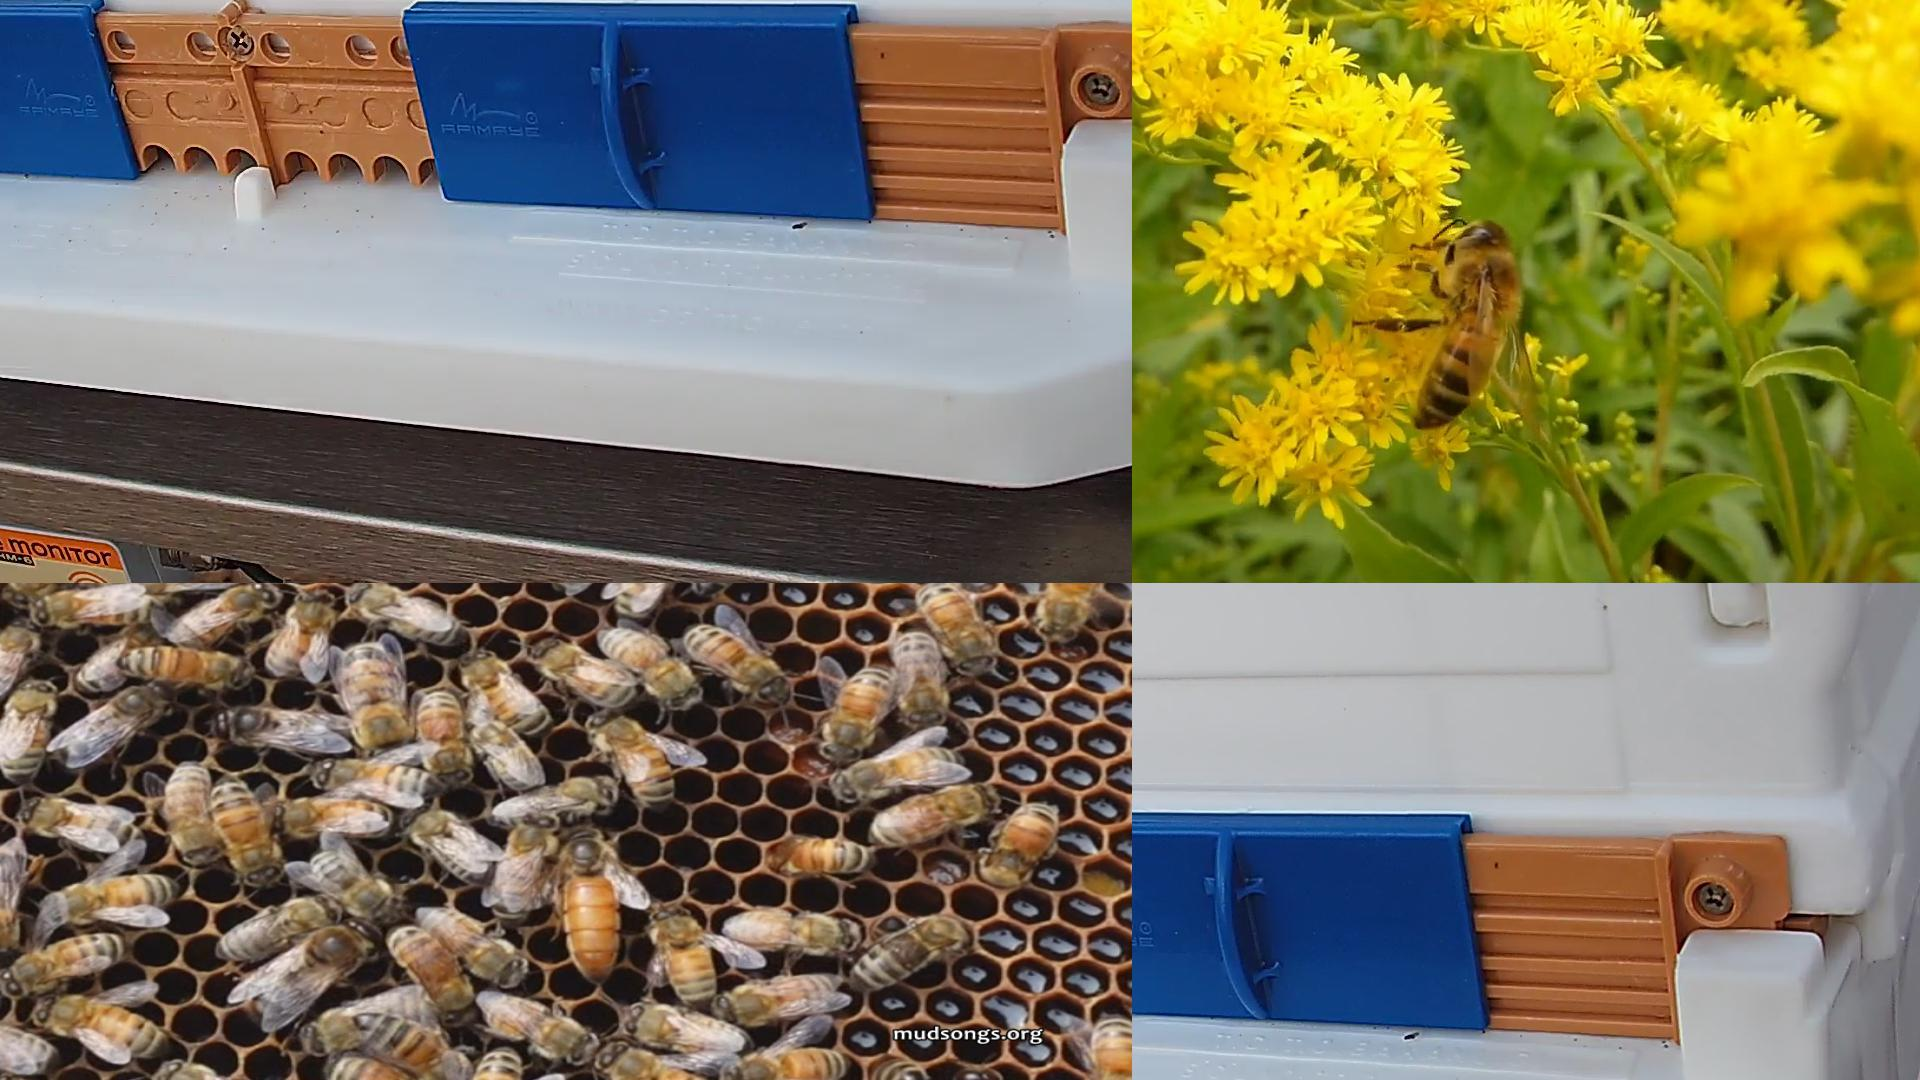bee: (1415, 222, 1515, 426), (851, 916, 969, 998), (36, 994, 174, 1058), (591, 712, 678, 810), (0, 934, 129, 997), (869, 783, 1001, 844), (916, 583, 1000, 676), (421, 909, 524, 984), (491, 816, 562, 923), (599, 629, 696, 707), (389, 927, 472, 1017), (214, 781, 287, 880), (348, 583, 467, 644), (352, 1014, 463, 1079), (533, 637, 632, 708), (40, 874, 179, 924), (690, 626, 786, 699), (305, 992, 422, 1051), (487, 997, 596, 1060), (215, 901, 336, 957), (462, 653, 546, 733), (649, 907, 716, 1007), (833, 748, 960, 800), (171, 583, 280, 644), (724, 910, 861, 957), (825, 667, 893, 761), (716, 975, 840, 1025), (984, 802, 1059, 884), (32, 583, 166, 628), (495, 775, 617, 824), (261, 592, 332, 675), (628, 1005, 748, 1054), (0, 676, 55, 782), (78, 625, 162, 691), (21, 798, 141, 844), (120, 649, 260, 687), (316, 757, 443, 799), (405, 810, 484, 874), (464, 715, 533, 787), (167, 764, 218, 862), (318, 852, 396, 915), (417, 692, 469, 785), (895, 634, 945, 728), (720, 1046, 852, 1079), (1031, 583, 1105, 641), (769, 836, 873, 874), (595, 1046, 712, 1079), (277, 799, 392, 832), (0, 1025, 66, 1076), (0, 615, 42, 692), (0, 847, 30, 945), (1095, 1017, 1131, 1079), (615, 583, 669, 620), (0, 583, 65, 611), (322, 1059, 400, 1079), (475, 1044, 520, 1079), (157, 1060, 227, 1080)
drone: (255, 923, 375, 1015), (57, 682, 175, 767), (342, 646, 410, 745), (211, 708, 351, 754)
queen: (558, 824, 628, 980)
